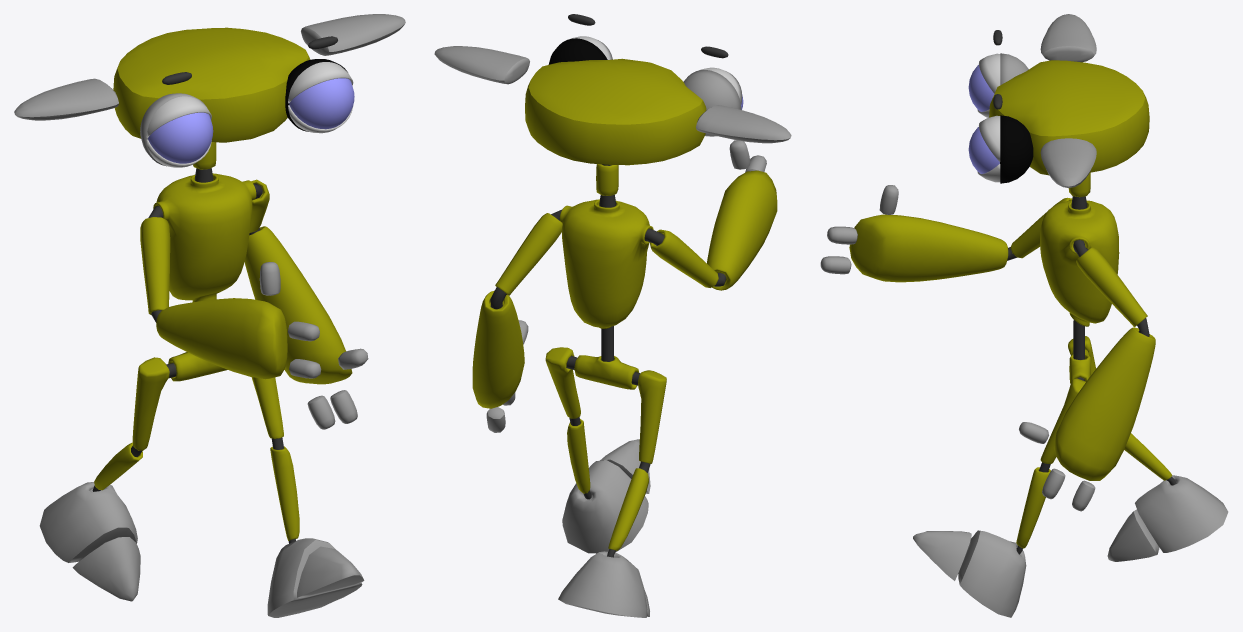
Rendered from walk1.obj.
3 renders of one model, left to right at view 1: azimuth 30°, elevation 25°; view 2: azimuth 150°, elevation 25°; view 3: azimuth 270°, elevation 25°, orthographic. The views are drawn at different scales.
Parts seen in each view (by area): view 1: Mesh polySurface50, Mesh polySurface41, Mesh polySurface37, Mesh polySurface18, Mesh polySurface48, Mesh polySurface26, Mesh polySurface24, Mesh polySurface47, Mesh polySurface38, Mesh polySurface6, Mesh polySurface22, Mesh polySurface44 (+18 smaller); view 2: Mesh polySurface41, Mesh polySurface50, Mesh polySurface48, Mesh polySurface37, Mesh polySurface18, Mesh polySurface10, Mesh polySurface26, Mesh polySurface47, Mesh polySurface51, Mesh polySurface28, Mesh polySurface44, Mesh polySurface38 (+9 smaller); view 3: Mesh polySurface18, Mesh polySurface50, Mesh polySurface37, Mesh polySurface41, Mesh polySurface26, Mesh polySurface10, Mesh polySurface48, Mesh polySurface44, Mesh polySurface51, Mesh polySurface4, Mesh polySurface8, Mesh polySurface47 (+11 smaller).
Part boxes in pixels (x1,y1,x2,y2): Mesh polySurface50: [117, 27, 308, 99]; Mesh polySurface41: [153, 173, 256, 302]; Mesh polySurface37: [156, 298, 287, 379]; Mesh polySurface18: [244, 226, 352, 384]; Mesh polySurface48: [113, 53, 309, 142]; Mesh polySurface26: [39, 482, 137, 562]; Mesh polySurface24: [72, 537, 140, 601]; Mesh polySurface47: [14, 78, 118, 117]; Mesh polySurface38: [140, 217, 170, 315]; Mesh polySurface6: [289, 78, 354, 129]; Mesh polySurface22: [148, 112, 213, 163]; Mesh polySurface44: [303, 14, 405, 51]; Mesh polySurface41: [560, 199, 653, 328]; Mesh polySurface50: [528, 58, 702, 124]; Mesh polySurface48: [525, 81, 706, 164]; Mesh polySurface37: [707, 170, 777, 290]; Mesh polySurface18: [472, 290, 524, 408]; Mesh polySurface10: [562, 460, 648, 553]; Mesh polySurface26: [558, 551, 647, 617]; Mesh polySurface47: [696, 105, 791, 140]; Mesh polySurface51: [495, 213, 562, 295]; Mesh polySurface28: [638, 370, 666, 463]; Mesh polySurface44: [434, 46, 527, 80]; Mesh polySurface38: [649, 229, 718, 287]; Mesh polySurface18: [1054, 327, 1155, 480]; Mesh polySurface50: [993, 60, 1145, 136]; Mesh polySurface37: [849, 214, 1008, 282]; Mesh polySurface41: [1040, 200, 1119, 326]; Mesh polySurface26: [1135, 475, 1228, 552]; Mesh polySurface10: [960, 530, 1026, 617]; Mesh polySurface48: [989, 92, 1149, 175]; Mesh polySurface44: [1040, 138, 1096, 186]; Mesh polySurface51: [1076, 247, 1147, 326]; Mesh polySurface4: [1000, 115, 1033, 183]; Mesh polySurface8: [913, 531, 971, 580]; Mesh polySurface47: [1040, 14, 1096, 54].
Size of the model in its own units: 10.05 by 14.23 by 10.12.
